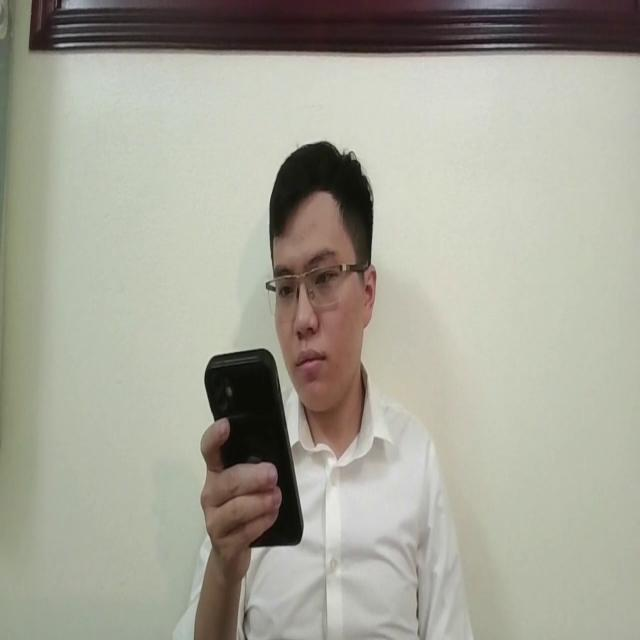phone: (202, 342, 304, 548)
student: (176, 138, 476, 640)
